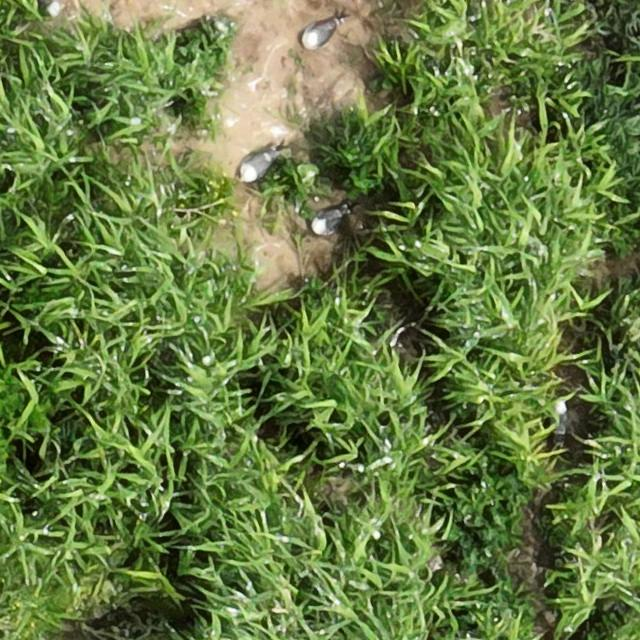umineko: (242, 150, 275, 180), (304, 20, 334, 46), (313, 210, 345, 234)
